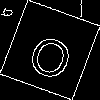O: (25, 25, 79, 82)
